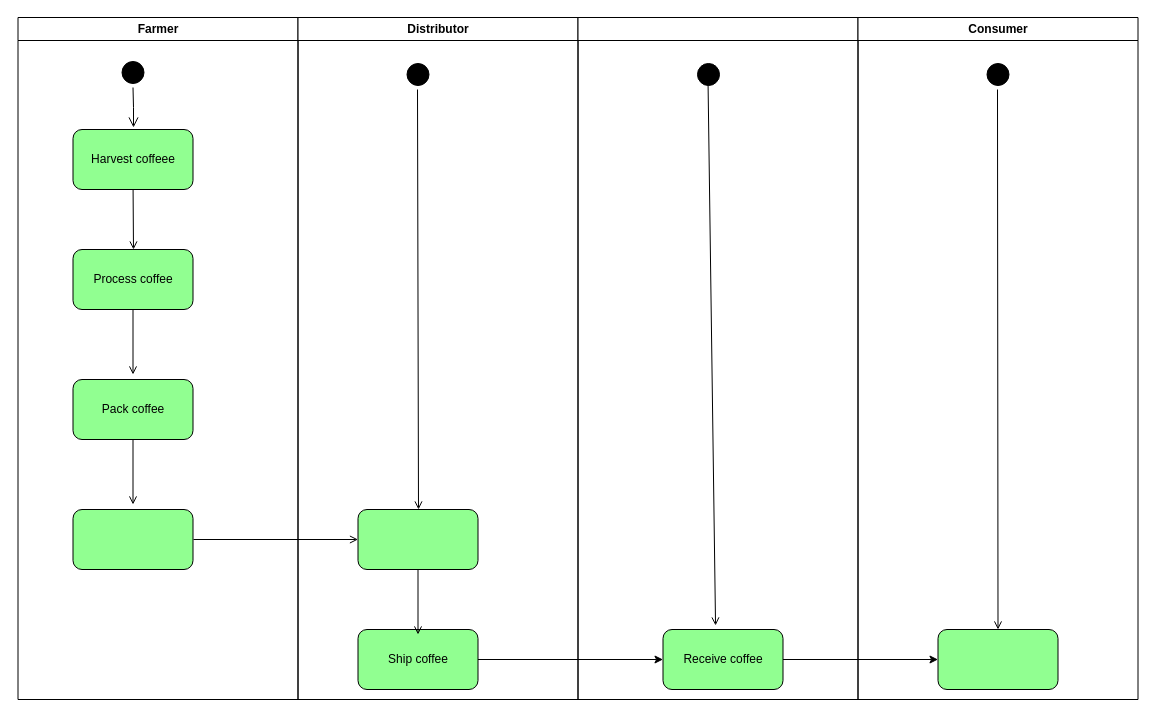
Some shapes in this 1155 by 717 pixel diagram are drawn without their labels. The shapes that lost their labels are listed below. From the top down, each one's box as (x1, y1, x2, y2) in pixels, then its label:
(577, 16, 858, 700): Retailer
(72, 508, 193, 570): Put coffee up for sale
(357, 508, 478, 570): Buy coffee
(937, 628, 1058, 690): Purchase coffee
